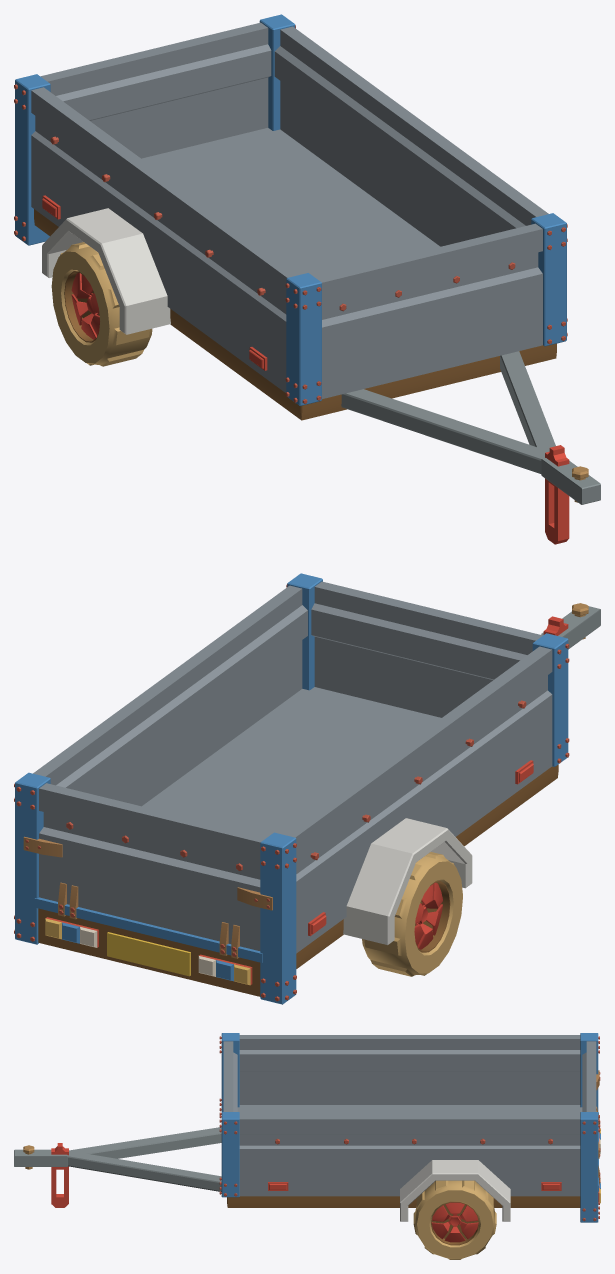
Rendered from car_13.gltf.
3 renders of one model, top to bottom at view 1: azimuth 30°, elevation 25°; view 2: azimuth 150°, elevation 25°; view 3: azimuth 270°, elevation 25°, orthographic. The views are drawn at different scales.
Parts seen in each view (by area): view 1: body, wheel_2, wheel_0; view 2: body, wheel_2, wheel_0; view 3: body, wheel_7, wheel_5.
Boxes of the visible parts, box(x1,y1,x2,y2) form: body: box(14, 14, 600, 544); wheel_2: box(51, 251, 109, 363); wheel_0: box(58, 245, 152, 366); body: box(14, 573, 600, 1004); wheel_2: box(405, 861, 462, 973); wheel_0: box(362, 855, 455, 976); body: box(14, 1033, 600, 1245); wheel_7: box(417, 1190, 493, 1258); wheel_5: box(413, 1180, 496, 1259).
Bounding box in the file's own units: 2.91 × 1.55 × 6.35.
Materials: 1 (1 with a texture image).
